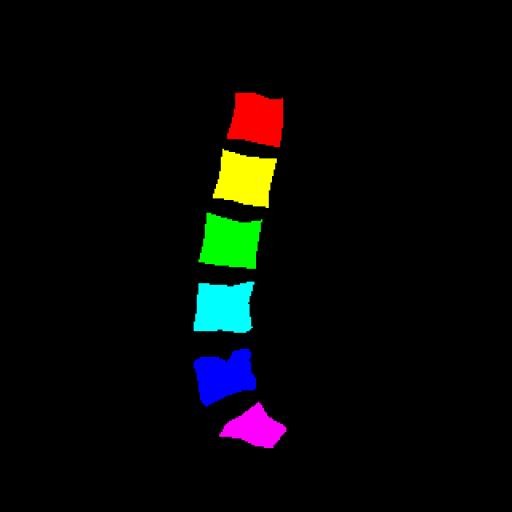L1: (227, 93, 283, 147)
L2: (213, 149, 277, 208)
L3: (199, 213, 262, 268)
L4: (194, 282, 254, 333)
L5: (194, 349, 256, 406)
S1: (219, 402, 286, 448)
